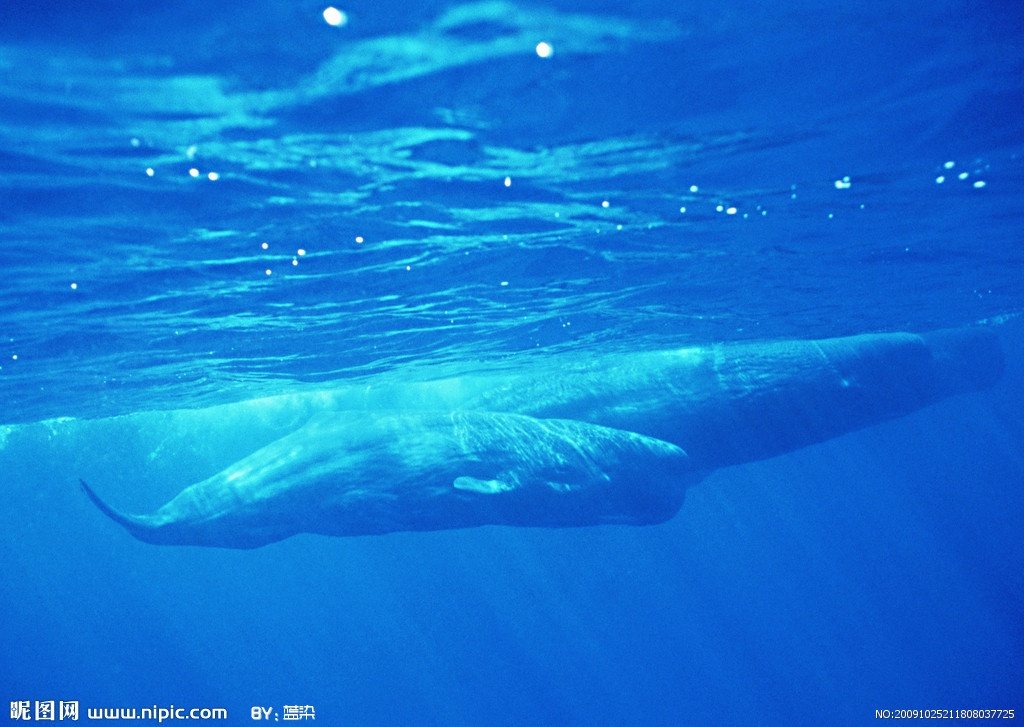fish: (62, 308, 1012, 541)
